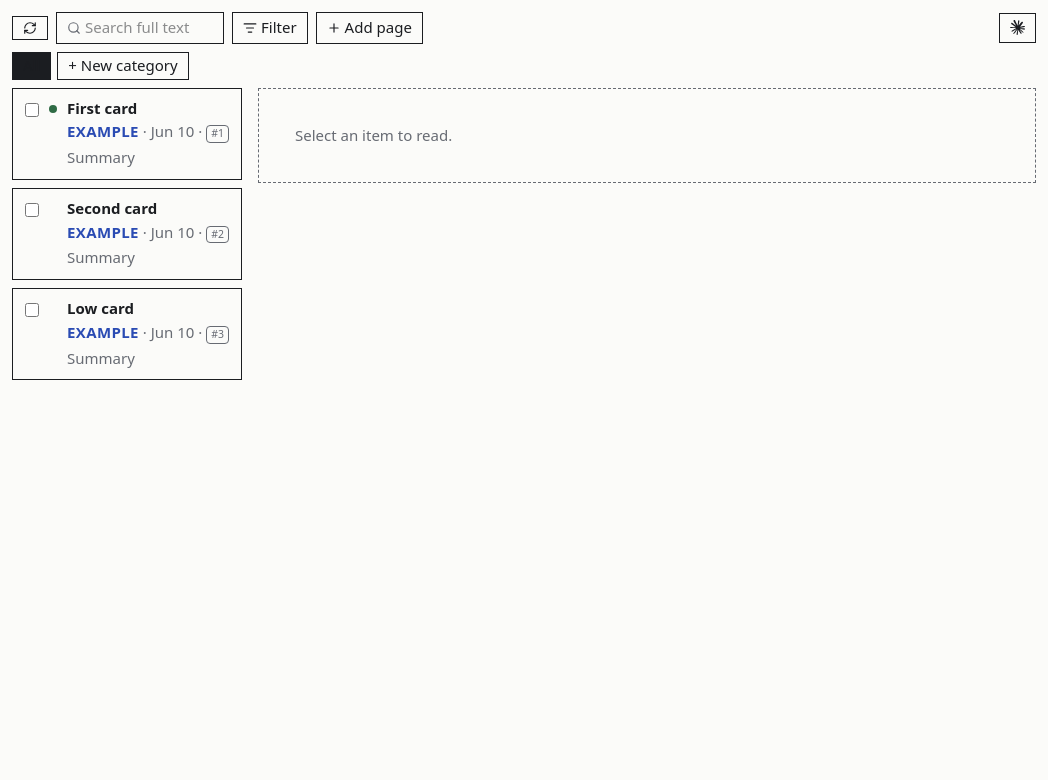
WorkspaceView explore mode › the reader toolbar Explore action enters explore for the open card
The width and height of the screenshot is (1048, 780).
Click the text "Second card" at [112, 208], box left=67, top=198, right=157, bottom=218
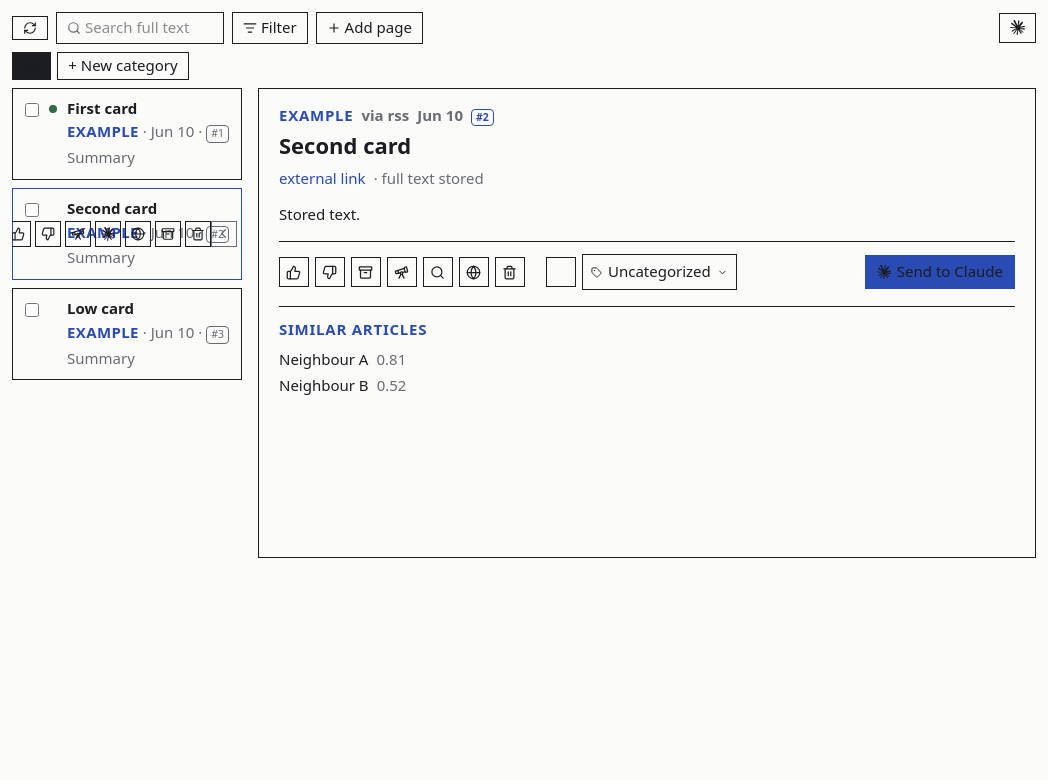
Check: the text "Stored text." is shown, box left=279, top=204, right=360, bottom=224
// The toolbar's explore button is the last one rendered (rows come first in the DOM).
Click the button named "Explore similar" below "Stored text." at [402, 272], box left=387, top=257, right=417, bottom=287
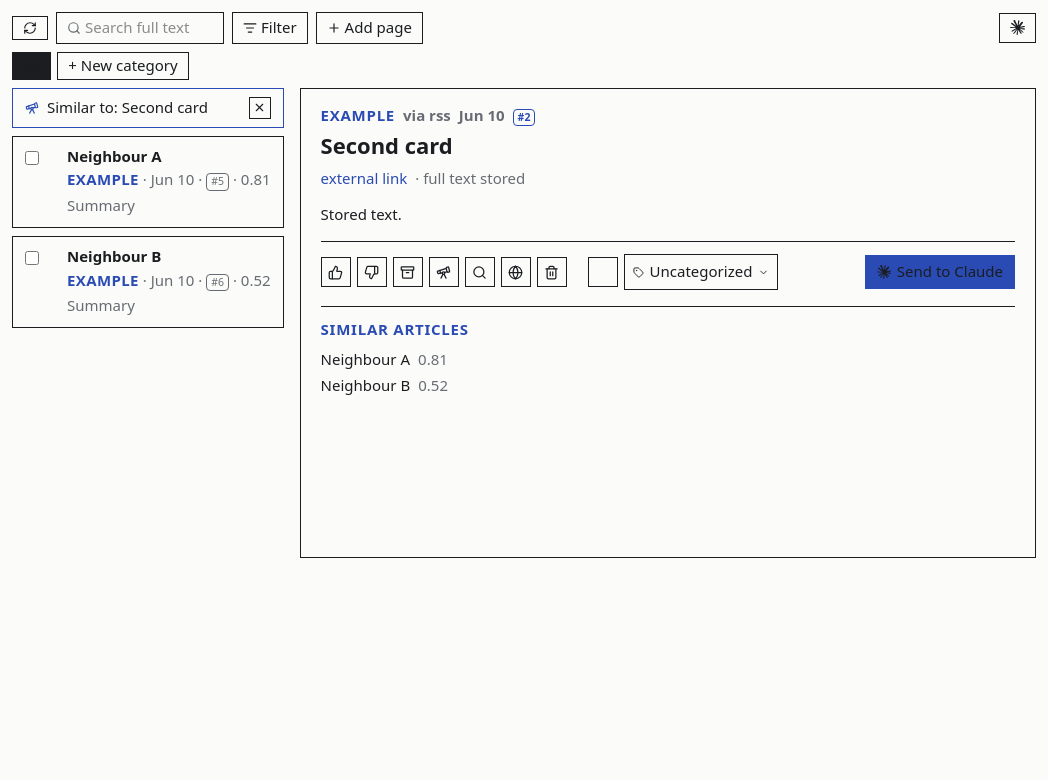
Check: the text "Similar to: Second card" is shown, box left=47, top=97, right=208, bottom=118
